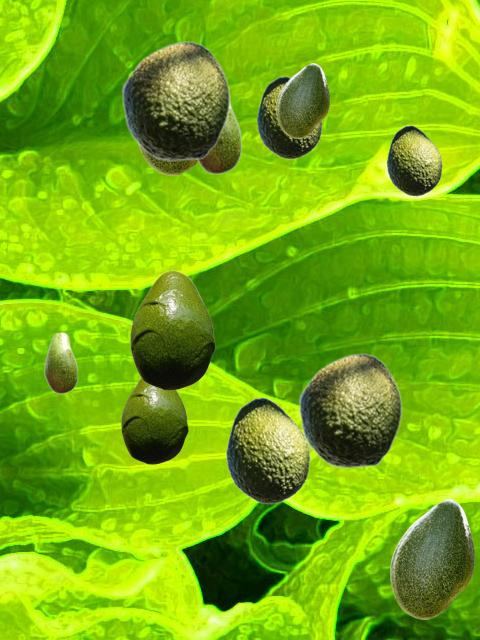avocado: (121, 41, 229, 160), (298, 353, 401, 467), (130, 270, 214, 389), (390, 499, 473, 618), (225, 397, 309, 503), (121, 378, 187, 463), (256, 76, 321, 158), (196, 88, 241, 174), (386, 125, 441, 195), (276, 63, 328, 137), (44, 331, 77, 393), (139, 147, 197, 174)
